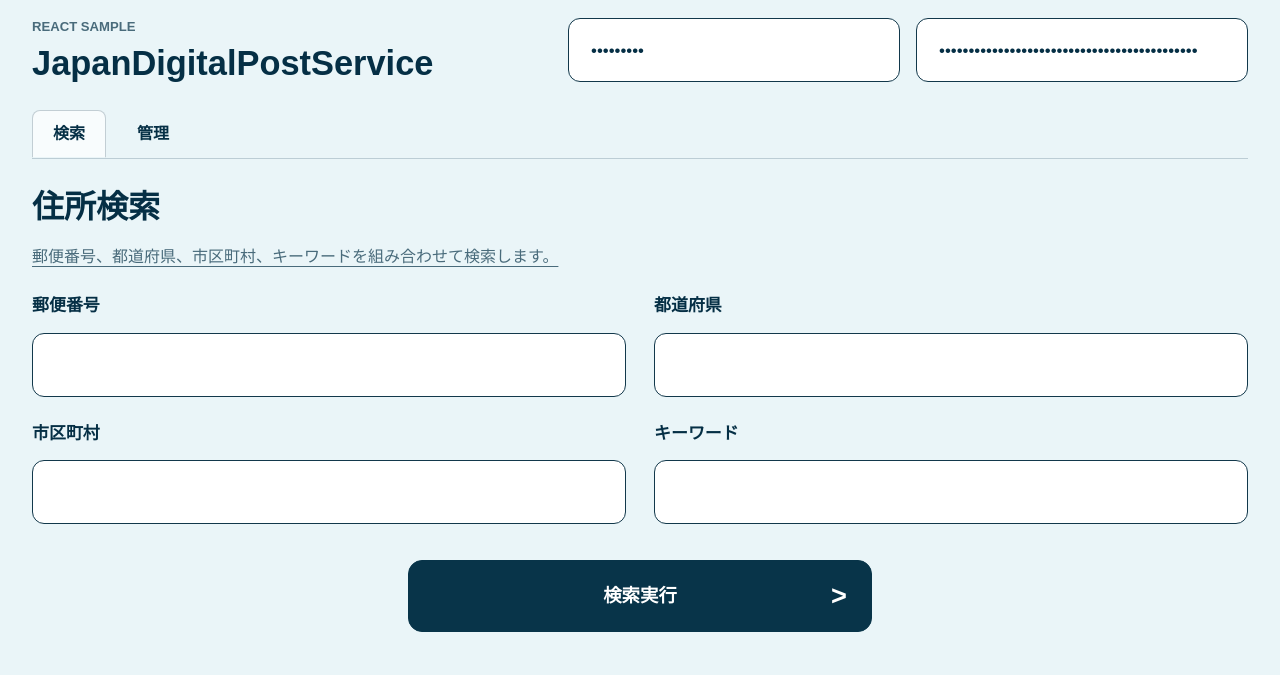
App › decrypts encrypted API error responses before showing the structured error
Type "東京" into the field labelled "都道府県".
click(951, 365); type("東京")  # box [654, 333, 1248, 397]
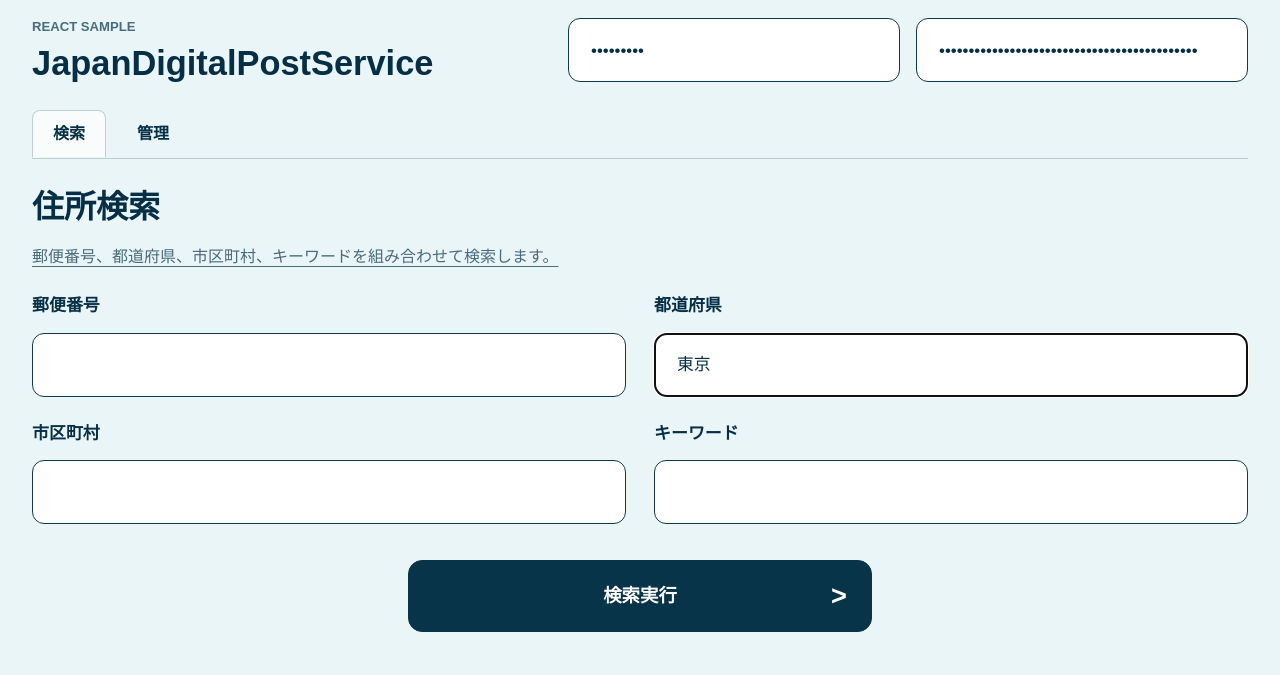
Click the button "検索実行".
click(640, 596)  # box [408, 560, 872, 632]
(page scrolled)
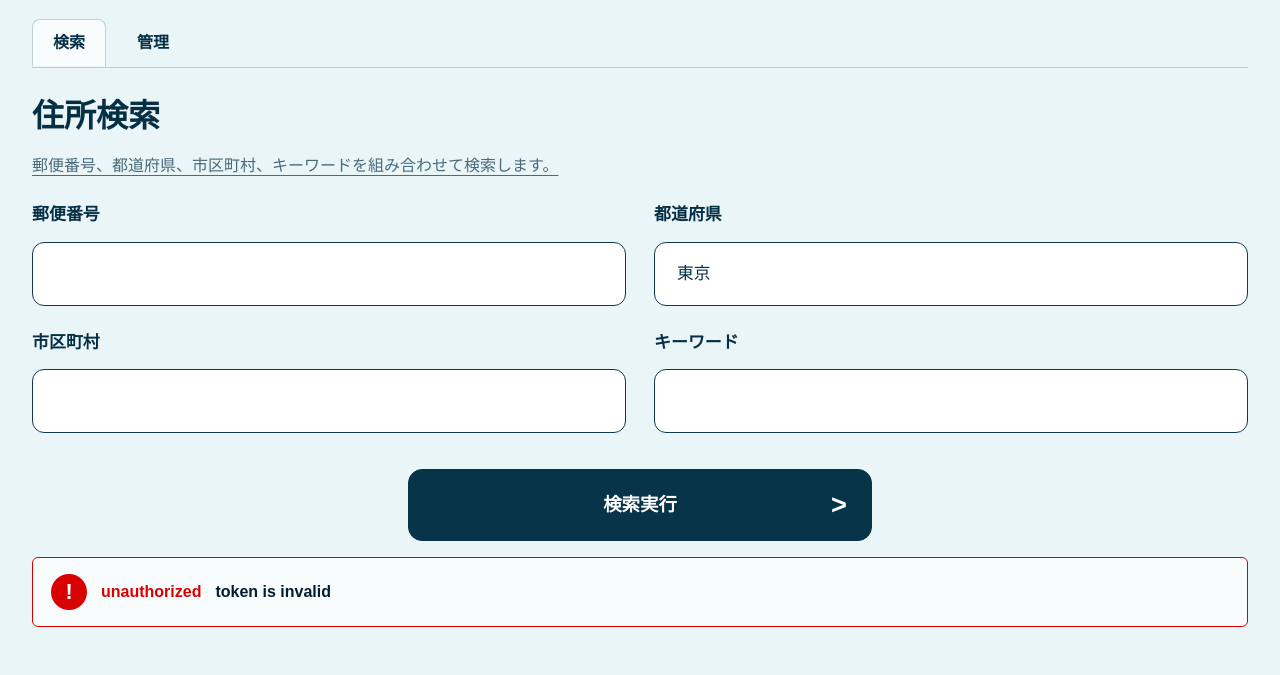
Now the message shows "unauthorized", box [101, 583, 201, 600]
Now the message shows "token is invalid", box [215, 583, 331, 600]
